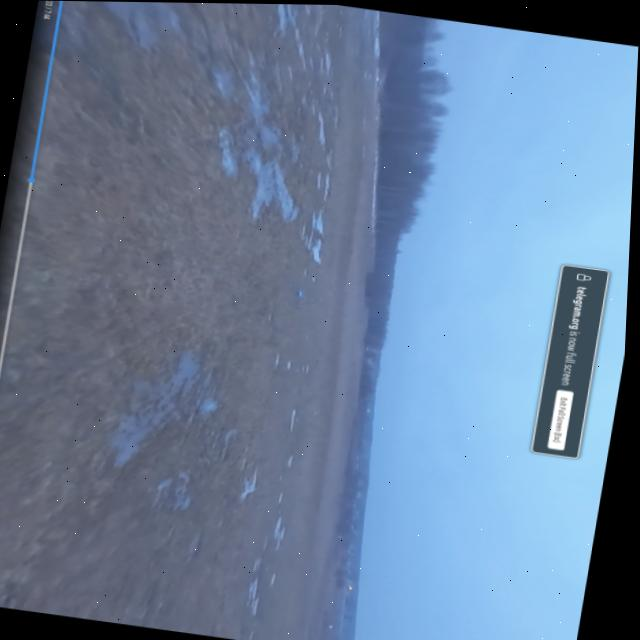planedrone: (290, 283, 308, 311)
